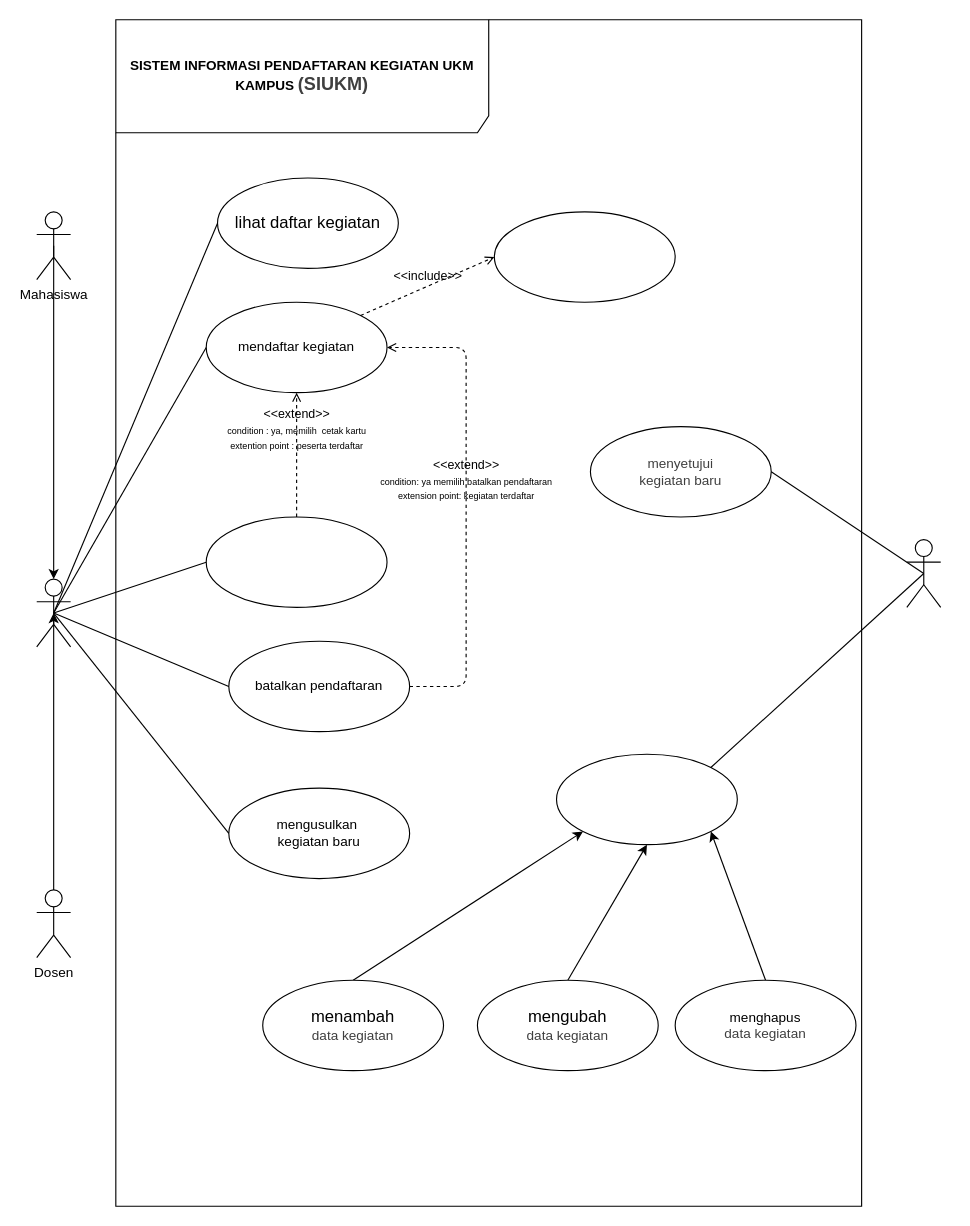
The diagram is 970 pixels wide and 1226 high, and some of its shapes have lost their labels. The centre of each missing label's shape, as x and y in pixels:
"cetak kartu peserta" belongs at pixel 296 561.
"mengelola data kegiatan" belongs at pixel 646 799.
"Pembina" belongs at pixel 923 572.
"Periksa ketersediaan kuota" belongs at pixel 584 256.
"Peserta" belongs at pixel 53 612.
